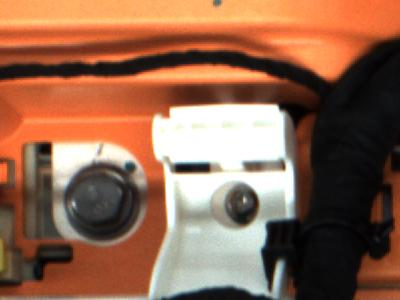nut_b: (65, 161, 138, 239)
